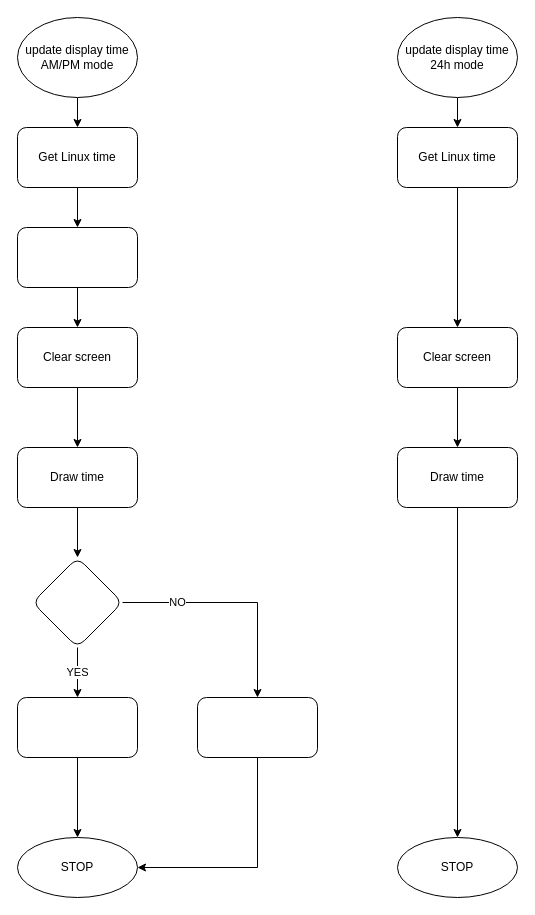
This 535x915 diagram has some shape labels left out. Each missing label, with the centre of its shape:
"Convert time to 12h" belongs at (77,257).
"Draw AM" belongs at (77,727).
"Draw PM" belongs at (257,727).
"is time in AM?" belongs at (77,602).
